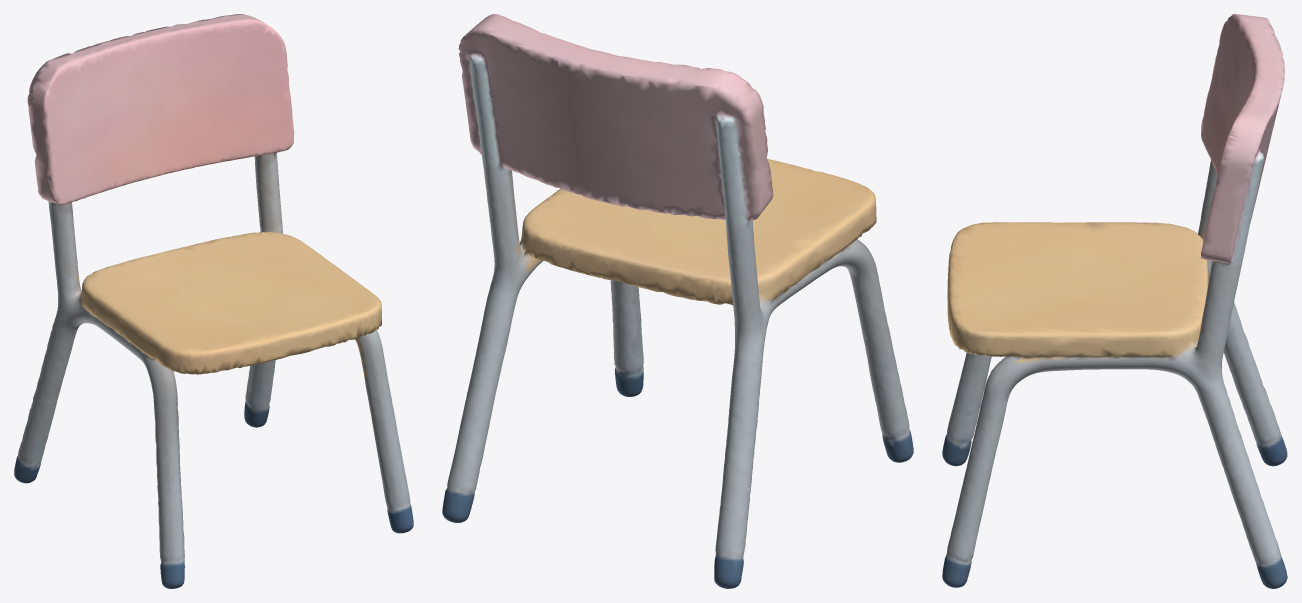
File: chair.glb
3 renders of one model, left to right at view 1: azimuth 30°, elevation 25°; view 2: azimuth 150°, elevation 25°; view 3: azimuth 270°, elevation 25°, orthographic. The views are drawn at different scales.
Parts seen in each view (by area): view 1: model; view 2: model; view 3: model.
Part boxes in pixels (x1,y1,x2,y2): model: (14,14,413,588); model: (442,14,913,588); model: (942,14,1287,588).
Size of the model in its own units: 1.18 by 1.9 by 1.29.
1 material, 1 textured.
